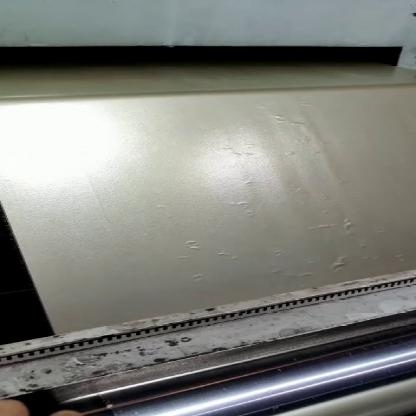Blisters: (252, 107, 301, 125), (197, 144, 264, 156), (168, 233, 203, 252), (210, 249, 248, 263), (313, 259, 349, 272), (220, 198, 260, 209), (338, 209, 355, 231), (287, 224, 337, 230)
